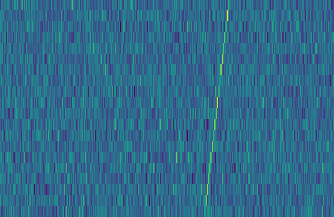signal: (200, 0, 235, 217)
